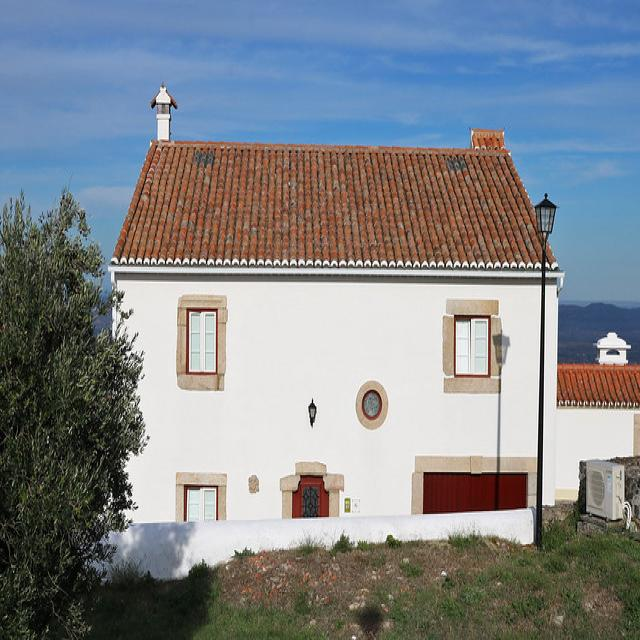Normal_building: (100, 89, 562, 564)
